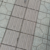zebra: (6, 1, 44, 50)
